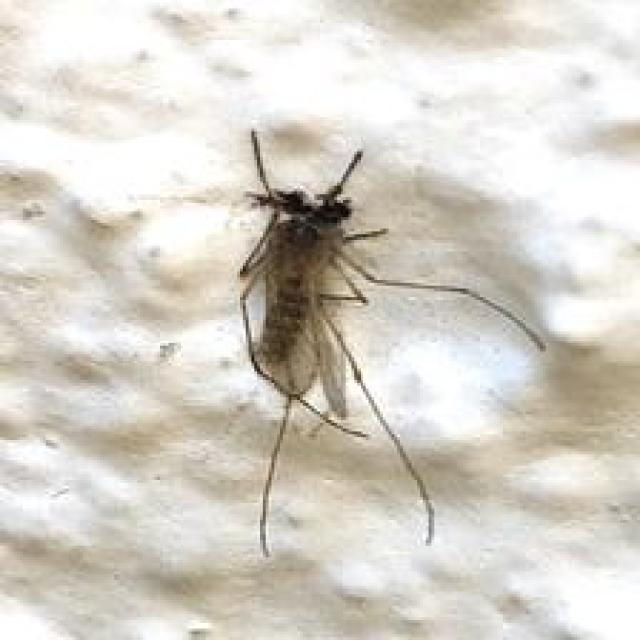Culex: (233, 127, 547, 559)
